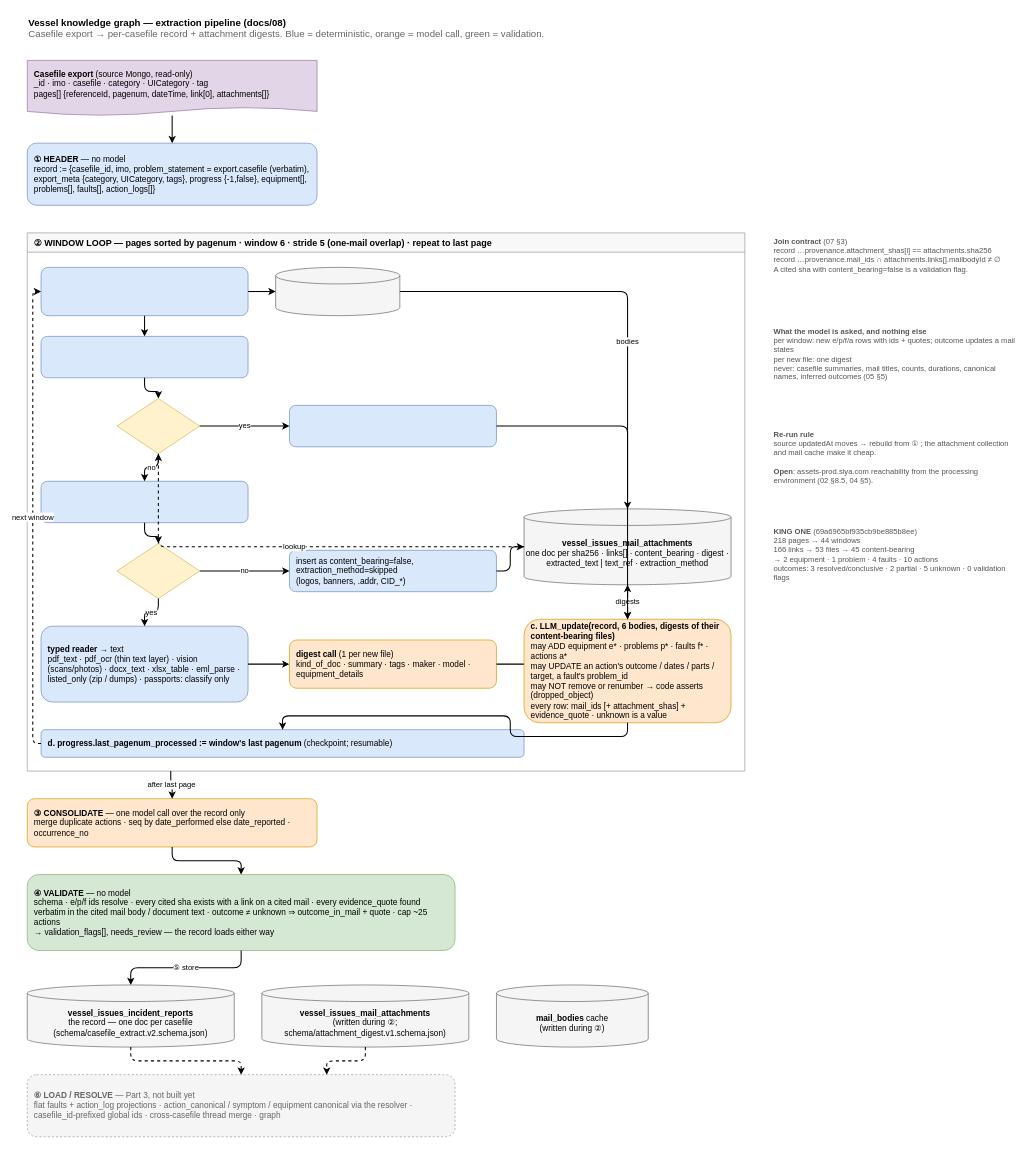
Image size: 1033x1149. Some labels were removed from this diagram. Each missing label, with the centre of its shape:
a. fetch mail bodies pages[].link[0] → HTML → text (quoted replies stripped): [144,291]
b. attachments of the 6 mails for each URL: fetch bytes → sha256: [144,357]
content- bearing?: [158,571]
hit → append {mailbodyId, casefileId, url, name} to links[] if new: [392,426]
mail_bodies text cache by mail_id: [337,291]
miss → junk filter (name / size / dims) → content_bearing: [144,502]
sha in attachments?: [158,426]
